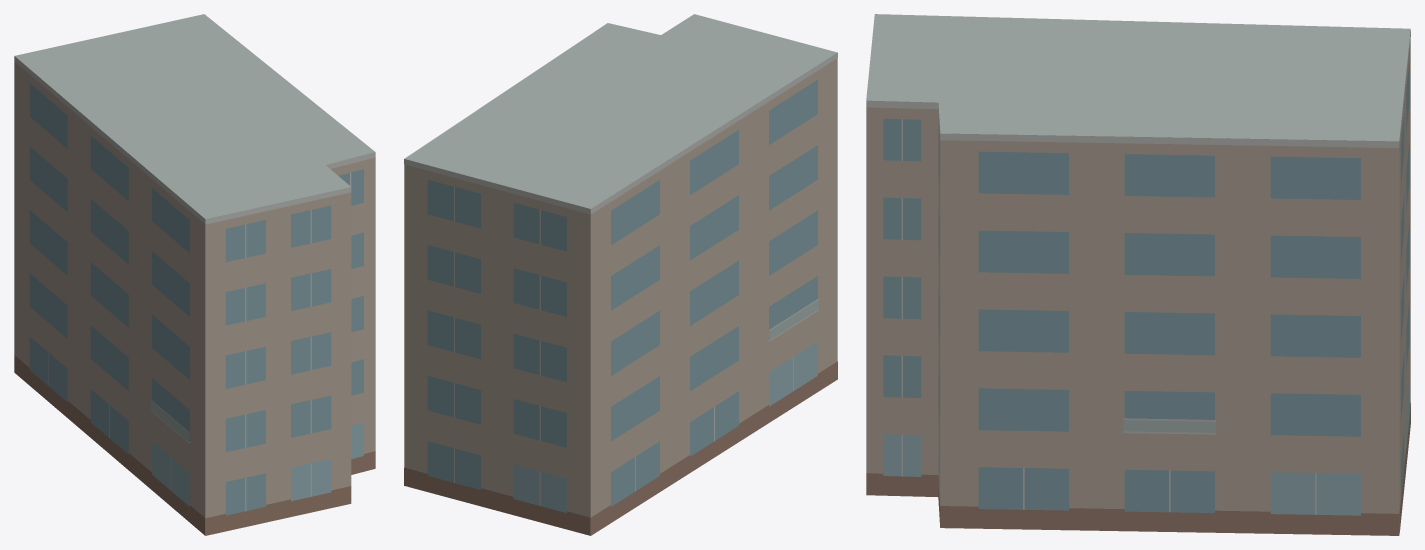
Rendered from survey-upis-32761281.glb.
The picture shows the model from 3 angles, left to right: view 1: azimuth 30°, elevation 25°; view 2: azimuth 150°, elevation 25°; view 3: azimuth 270°, elevation 25°; orthographic projection. The views are drawn at different scales.
Visible parts, largest first — view 1: survey-upis-32761281.tmp; view 2: survey-upis-32761281.tmp; view 3: survey-upis-32761281.tmp.
Part boxes in pixels (left/top/right/bottom): survey-upis-32761281.tmp: left=14, top=14, right=375, bottom=535; survey-upis-32761281.tmp: left=404, top=14, right=837, bottom=535; survey-upis-32761281.tmp: left=866, top=14, right=1410, bottom=535.
Size of the model in its own units: 9.98 by 14.4 by 18.03.
